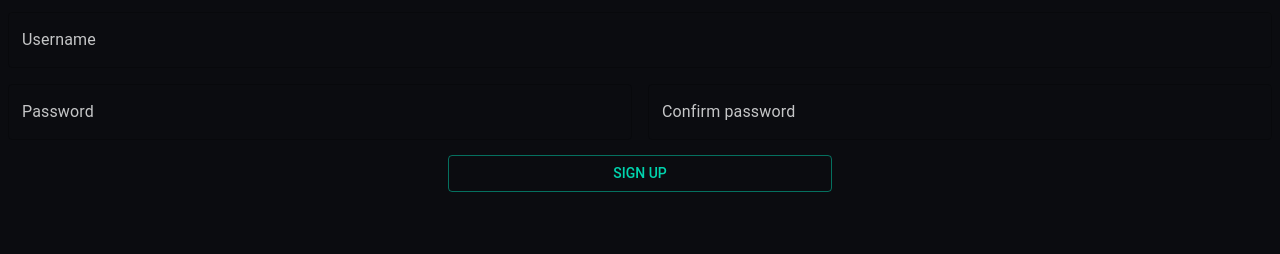
SignUp UI tests › Fields with not suitable format
The width and height of the screenshot is (1280, 254).
Step 1. Type "te" into the field with test id "usernameField" → (640, 40), box [8,12,1272,68]
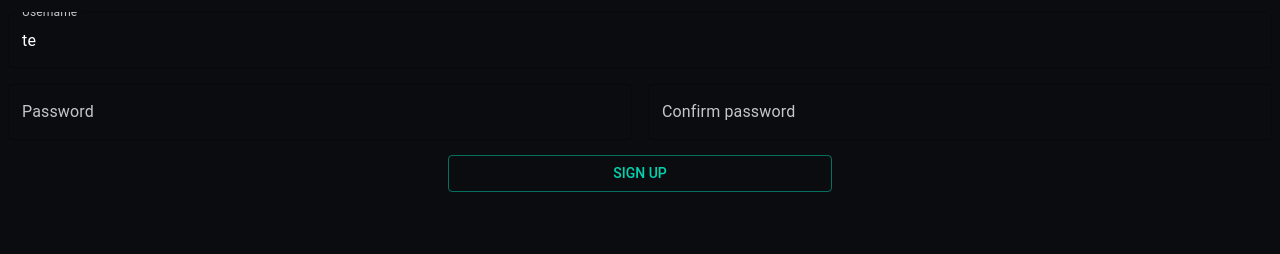
Step 2. Type "12" into the password field with test id "passwordField" → (320, 112), box [8,84,632,140]
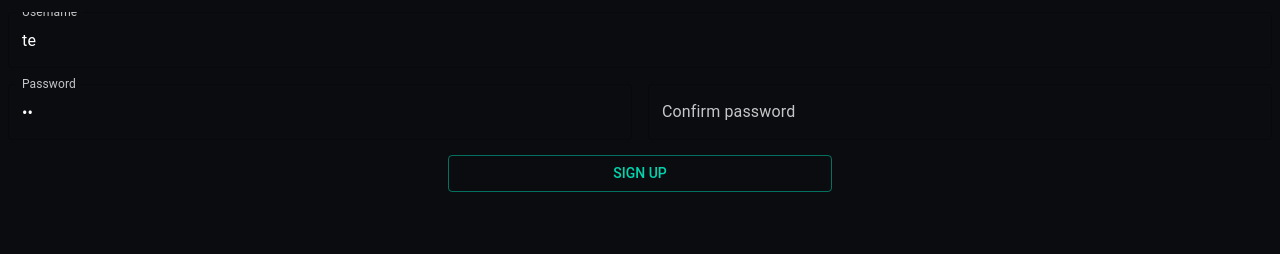
Step 3. Type "13313" into the password field with test id "confirmPasswordField" → (960, 112), box [648,84,1272,140]
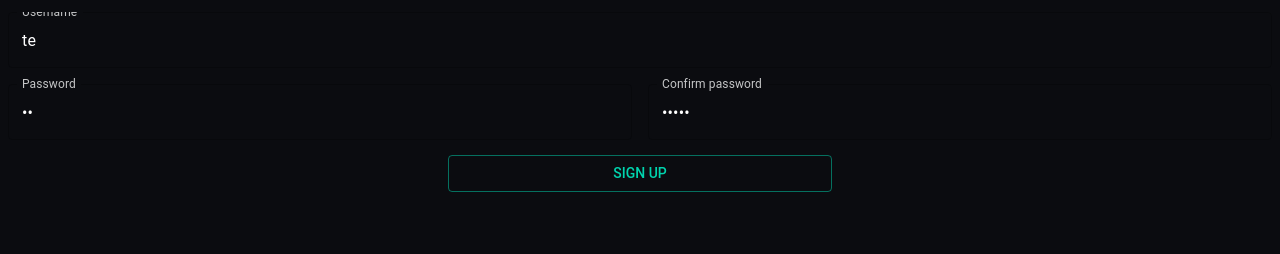
Step 4. Submit the form from the button, box [448,155,832,192]
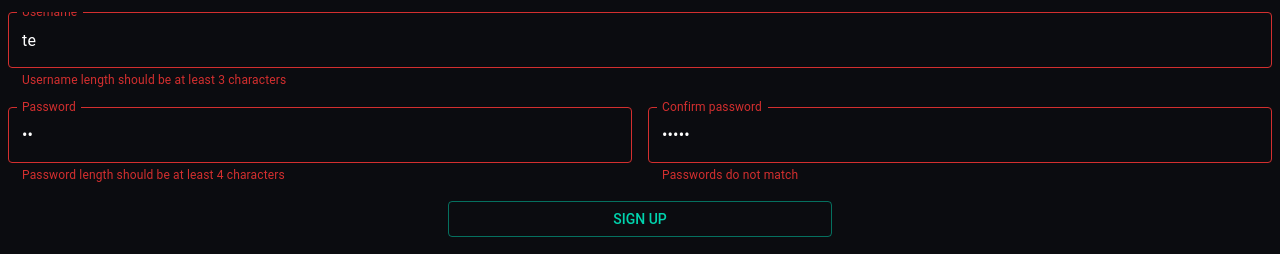
Check: the text "Username length should be at least 3 characters" is shown, box [22,73,286,87]
Check: the text "Password length should be at least 4 characters" is shown, box [22,168,285,182]
Check: the text "Passwords do not match" is shown, box [662,168,798,182]
